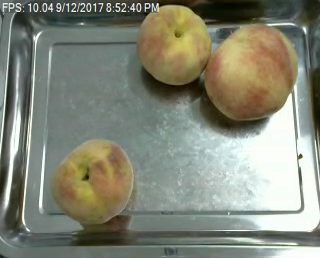Peach: (203, 22, 299, 121), (51, 137, 136, 226), (137, 3, 211, 86)
